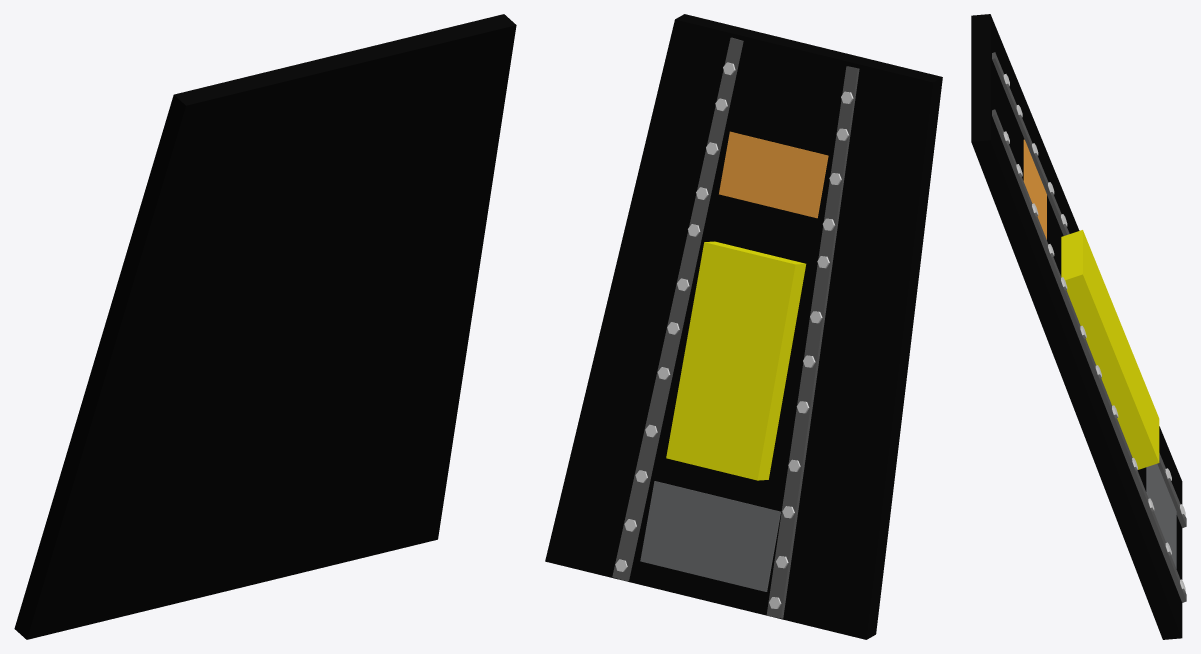
Rendered from Lander_door.fbx.
The picture shows the model from 3 angles, left to right: view 1: azimuth 30°, elevation 25°; view 2: azimuth 150°, elevation 25°; view 3: azimuth 270°, elevation 25°; orthographic projection. The views are drawn at different scales.
Parts seen in each view (by area): view 1: door; view 2: door; view 3: door.
Boxes of the visible parts, left/top/right/bottom form: door: left=14, top=14, right=516, bottom=639; door: left=545, top=14, right=942, bottom=639; door: left=971, top=14, right=1186, bottom=639.
Size of the model in its own units: 59.83 by 85.77 by 34.68.
